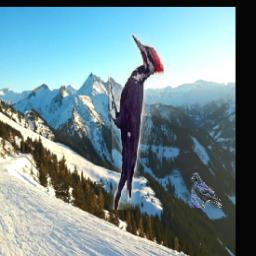Crow: (192, 172, 222, 208)
Woodpecker: (108, 34, 164, 211)
